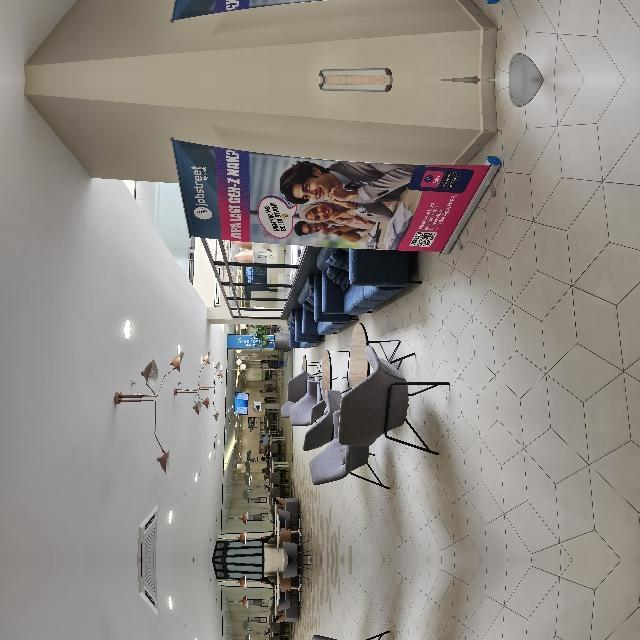obstacle: (302, 127, 480, 606), (68, 384, 298, 534), (302, 514, 479, 640), (67, 586, 298, 640), (302, 0, 479, 33)
